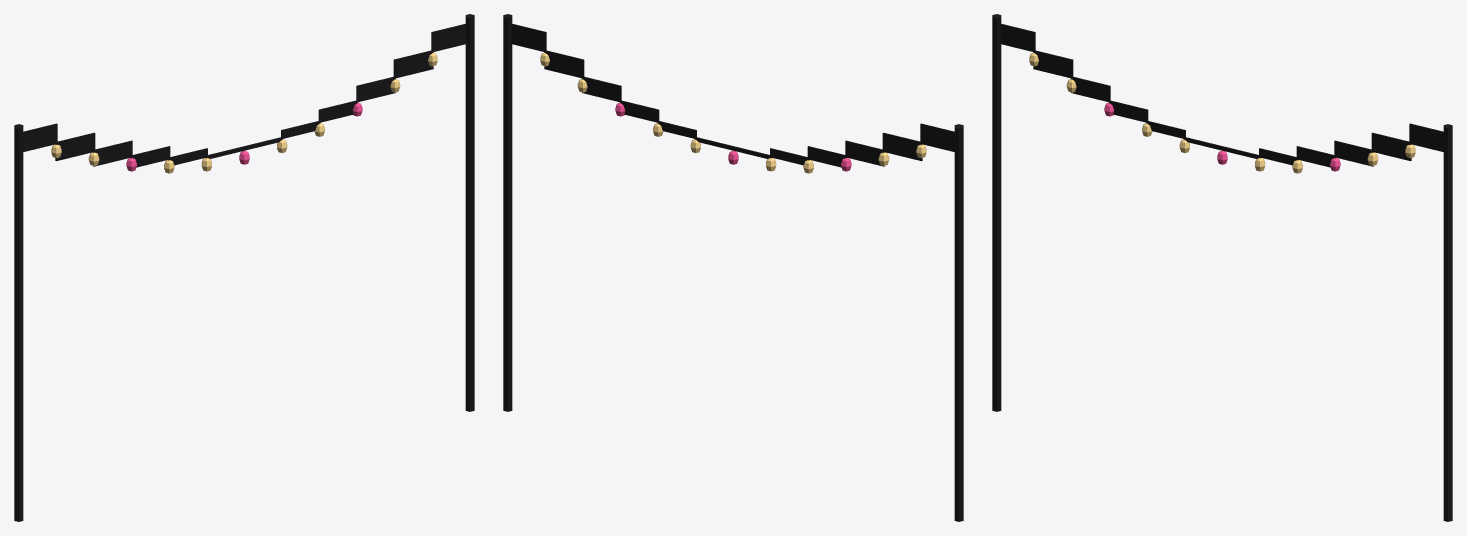
File: string_lights.obj
The picture shows the model from 3 angles, left to right: view 1: azimuth 30°, elevation 25°; view 2: azimuth 150°, elevation 25°; view 3: azimuth 330°, elevation 25°; orthographic projection.
Parts seen in each view (by area): view 1: string_lights; view 2: string_lights; view 3: string_lights.
Boxes of the visible parts, <box> form: string_lights: <box>14,14,474,521</box>; string_lights: <box>503,14,963,521</box>; string_lights: <box>992,14,1452,521</box>.
Size of the model in its own units: 3.06 by 2.5 by 0.0606.
